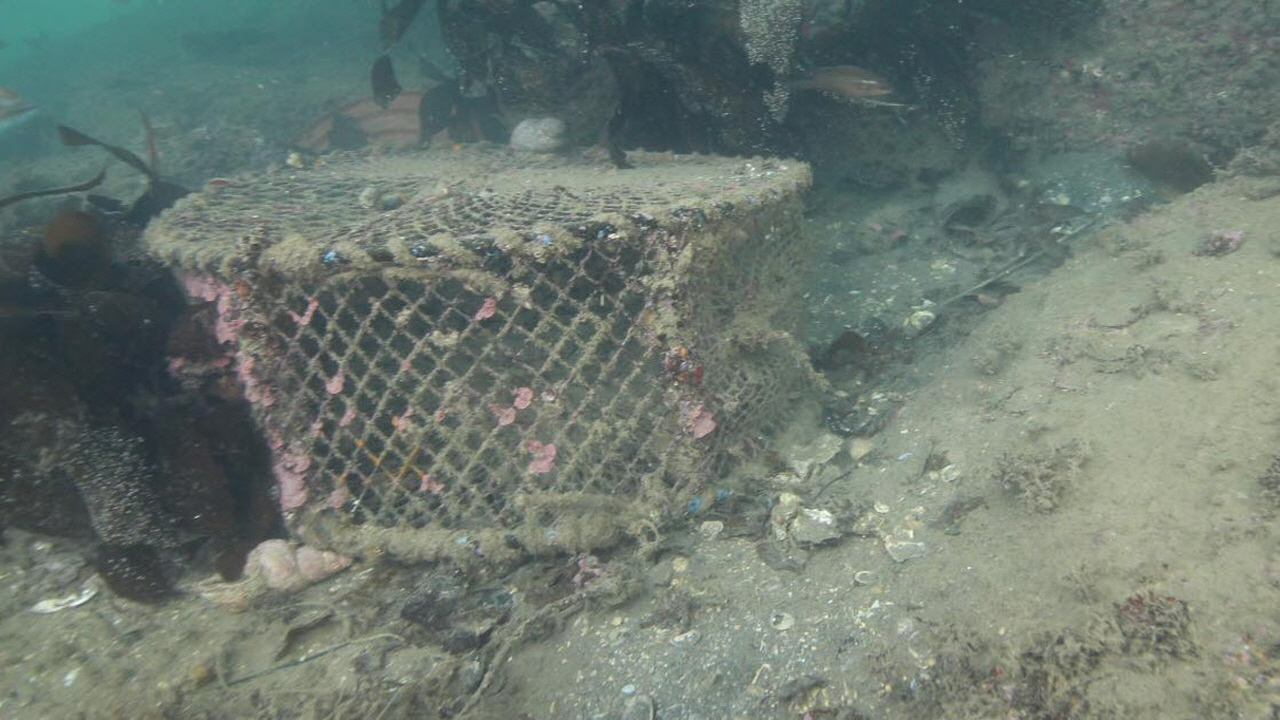circular fish trap: (142, 143, 814, 561)
